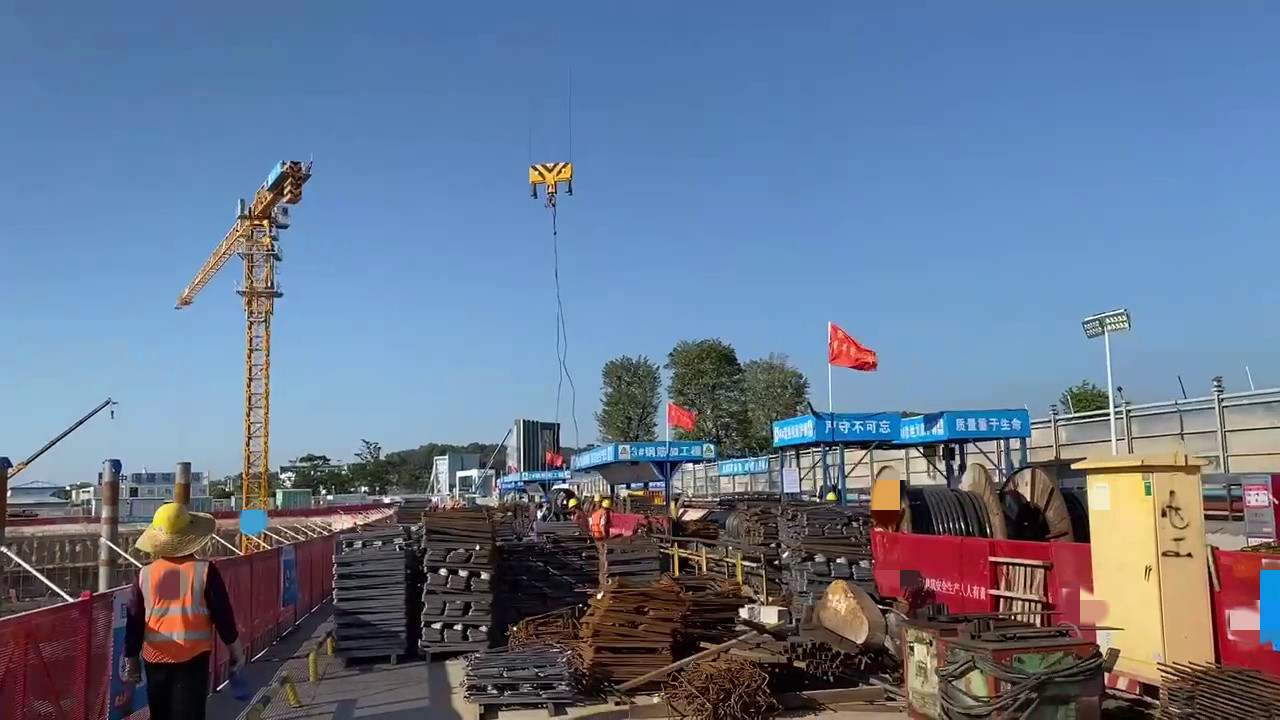ebox: (1080, 453, 1214, 675)
fence: (867, 523, 1084, 630), (1, 581, 130, 716), (220, 538, 330, 670), (1220, 549, 1280, 672)
helmet: (152, 502, 193, 532), (602, 499, 614, 509), (567, 499, 580, 507)
hook: (527, 159, 573, 190)
person: (134, 502, 234, 720), (564, 498, 586, 536), (592, 500, 610, 538)
rebar: (415, 505, 501, 653), (330, 524, 422, 657), (575, 576, 674, 681), (775, 508, 848, 627), (667, 649, 776, 716), (1157, 658, 1266, 720), (780, 631, 885, 686), (513, 602, 580, 653)
slogan: (813, 415, 900, 441), (942, 413, 1024, 436), (929, 573, 984, 599)
vest: (141, 555, 214, 662)
